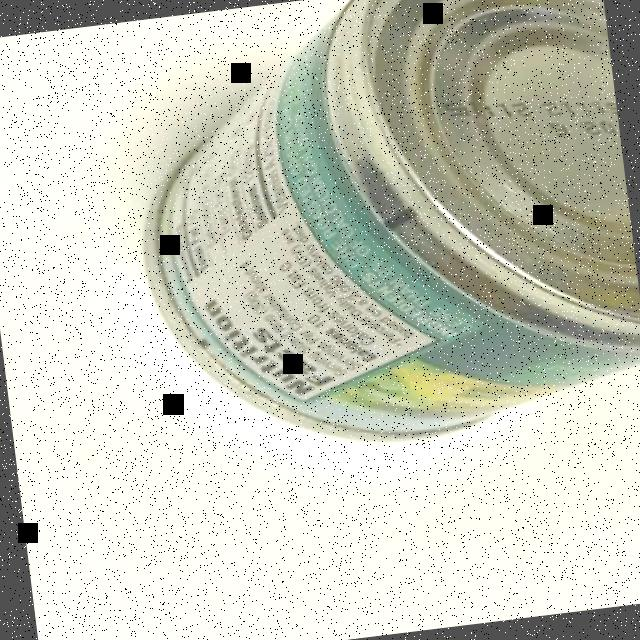can: (110, 0, 640, 475)
